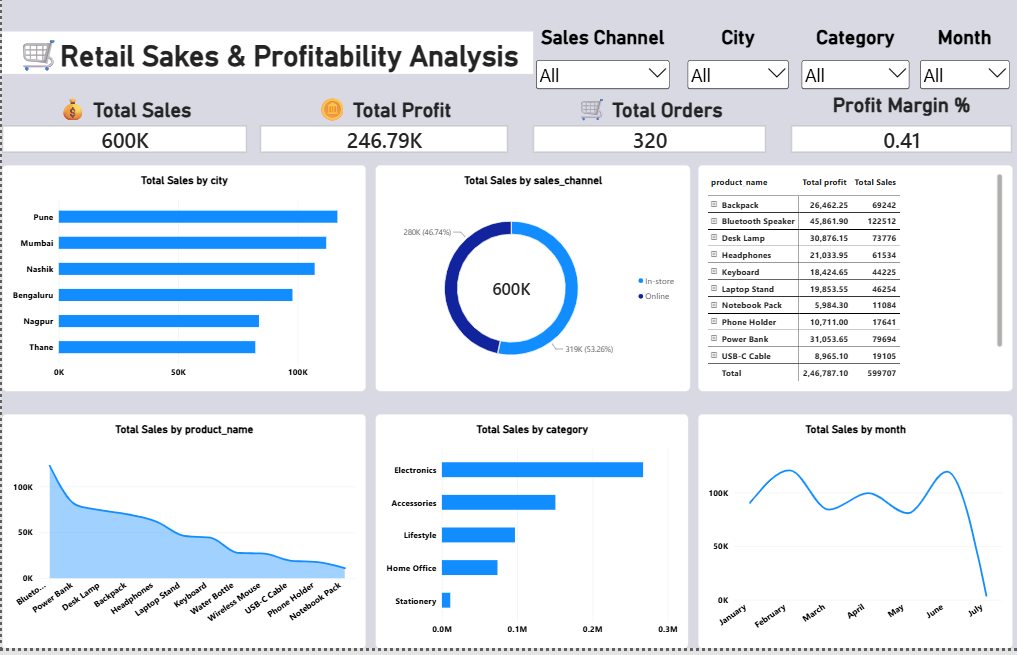

The dashboard page shown, as its layout file describes it:
{"tool":"powerbi","page":{"name":"Page 1","canvas":[1920,1080],"ordinal":0},"visuals":[{"type":"cardVisual","title":"💰 Total Sales","fields":{"Data":["retail_sales_cleaned.Total Sales"]},"box":[0,155.9,408.2,99.2],"z":0},{"type":"cardVisual","title":"🪙 Total Profit","fields":{"Data":["retail_sales_cleaned.Total profit"]},"box":[430.9,155.9,413.9,99.2],"z":1000},{"type":"cardVisual","title":"🛒  Total Orders","fields":{"Data":["retail_sales_cleaned.Total orders"]},"box":[884.4,155.9,388.3,99.2],"z":2000},{"type":"cardVisual","title":"Profit Margin %","fields":{"Data":["retail_sales_cleaned.Profit Margin%"]},"box":[1315.3,155.9,368.5,99.2],"z":3000},{"type":"lineChart","title":"Total Sales by month","fields":{"Category":["retail_sales_cleaned.order_date.Variation.Date Hierarchy.Month"],"Y":["retail_sales_cleaned.Total Sales"]},"box":[1159.4,688.8,524.4,391.2],"z":4000},{"type":"barChart","fields":{"Category":["retail_sales_cleaned.category"],"Y":["retail_sales_cleaned.Total Sales"]},"box":[623.6,688.8,521.6,391.2],"z":5000},{"type":"donutChart","fields":{"Category":["retail_sales_cleaned.sales_channel"],"Y":["retail_sales_cleaned.Total Sales"]},"box":[623.6,275,524.4,377],"z":6000},{"type":"pivotTable","fields":{"Rows":["retail_sales_cleaned.product_name","retail_sales_cleaned.category"],"Values":["retail_sales_cleaned.Total profit","retail_sales_cleaned.Total Sales"]},"box":[1159.4,275,524.4,377],"z":7000},{"type":"barChart","fields":{"Category":["retail_sales_cleaned.city"],"Y":["retail_sales_cleaned.Total Sales"]},"box":[0,275,606.6,377],"z":8000},{"type":"areaChart","fields":{"Category":["retail_sales_cleaned.product_name"],"Y":["retail_sales_cleaned.Total Sales"]},"box":[0,688.8,606.6,391.2],"z":9000},{"type":"slicer","title":"Category","fields":{"Values":["retail_sales_cleaned.category"]},"box":[1326.6,42.5,189.9,107.7],"z":11000},{"type":"slicer","title":"Month","fields":{"Values":["retail_sales_cleaned.order_date.Variation.Date Hierarchy.Month"]},"box":[1525.1,42.5,158.7,116.2],"z":12000},{"type":"slicer","title":"City","fields":{"Values":["retail_sales_cleaned.city"]},"box":[1136.7,42.5,178.6,107.7],"z":13000},{"type":"slicer","title":"Sales Channel","fields":{"Values":["retail_sales_cleaned.sales_channel"]},"box":[884.4,42.5,232.4,144.6],"z":14000},{"type":"textbox","title":"🛒Retail Sakes & Profitability Analysis","box":[0,52.5,885,97.5],"z":14001}]}

Visuals, with their boxes on the page's 1920x1080 design canvas (x1, y1, x2, y2). These are canvas units, not pixel positions in the 1017x655 screenshot, which may show the page scaled, cropped or inside an application window:
"💰 Total Sales" cardVisual: box=[0, 156, 408, 255]
"🪙 Total Profit" cardVisual: box=[431, 156, 845, 255]
"🛒  Total Orders" cardVisual: box=[884, 156, 1273, 255]
"Profit Margin %" cardVisual: box=[1315, 156, 1684, 255]
"Total Sales by month" lineChart: box=[1159, 689, 1684, 1080]
barChart - retail_sales_cleaned.category x retail_sales_cleaned.Total Sales: box=[624, 689, 1145, 1080]
donutChart - retail_sales_cleaned.sales_channel x retail_sales_cleaned.Total Sales: box=[624, 275, 1148, 652]
pivotTable - retail_sales_cleaned.product_name x retail_sales_cleaned.category: box=[1159, 275, 1684, 652]
barChart - retail_sales_cleaned.city x retail_sales_cleaned.Total Sales: box=[0, 275, 607, 652]
areaChart - retail_sales_cleaned.product_name x retail_sales_cleaned.Total Sales: box=[0, 689, 607, 1080]
"Category" slicer: box=[1327, 42, 1516, 150]
"Month" slicer: box=[1525, 42, 1684, 159]
"City" slicer: box=[1137, 42, 1315, 150]
"Sales Channel" slicer: box=[884, 42, 1117, 187]
"🛒Retail Sakes & Profitability Analysis" textbox: box=[0, 52, 885, 150]
